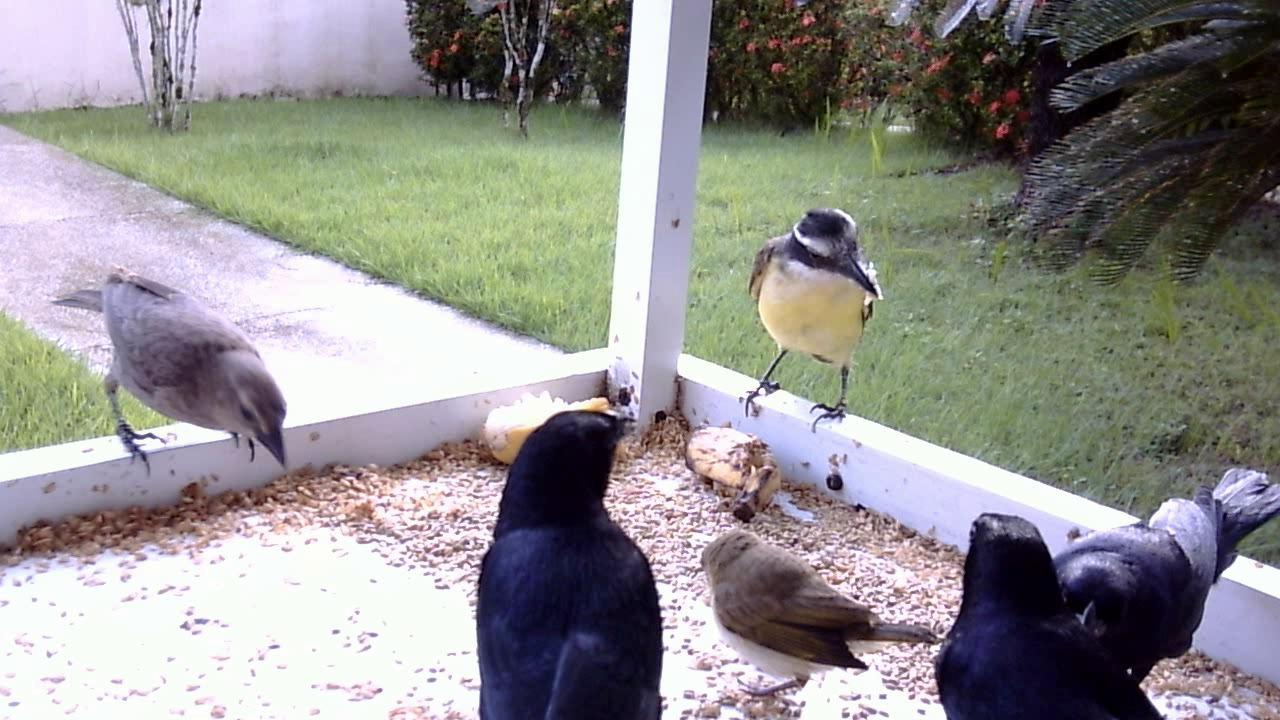bem_te_vi: (734, 201, 881, 441)
canario_do_amazonas: (694, 518, 944, 711)
chupim: (468, 401, 671, 720), (955, 477, 1215, 710), (40, 265, 290, 482), (1042, 452, 1261, 688)
